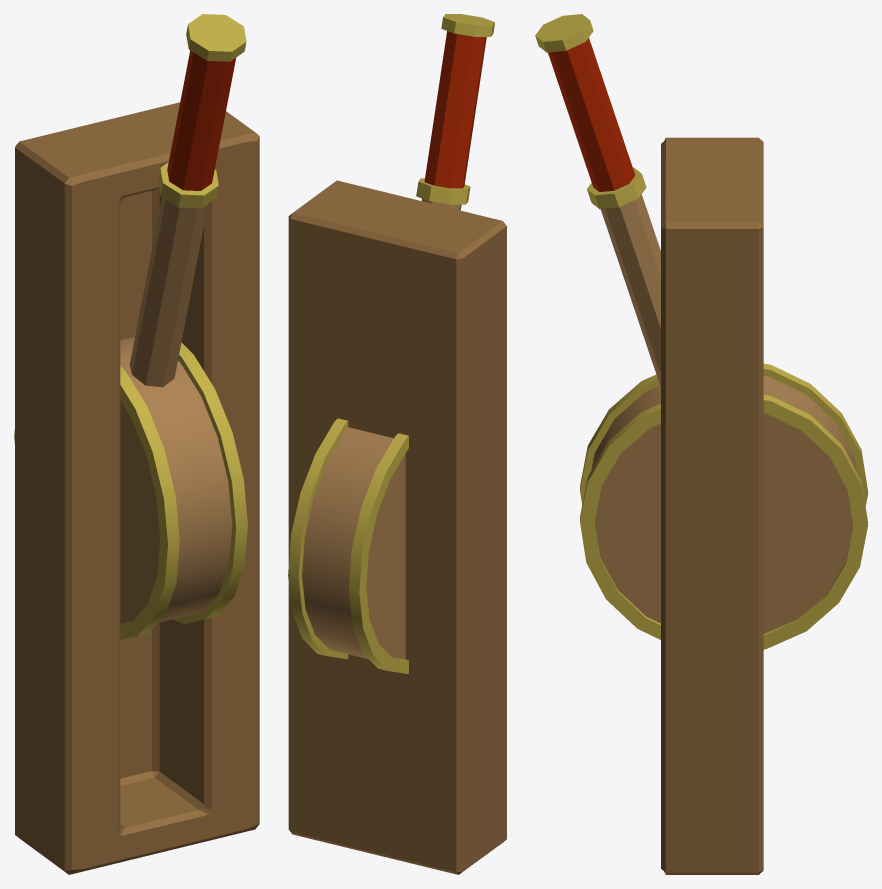
File: Lever.fbx
The picture shows the model from 3 angles, left to right: view 1: azimuth 30°, elevation 25°; view 2: azimuth 150°, elevation 25°; view 3: azimuth 270°, elevation 25°; orthographic projection. The views are drawn at different scales.
Visible parts, largest first — view 1: WallCasing, Lever; view 2: WallCasing, Lever; view 3: WallCasing, Lever.
Part boxes in pixels (<box>): WallCasing: <box>15,102,259,874</box>; Lever: <box>14,14,247,639</box>; WallCasing: <box>288,180,506,874</box>; Lever: <box>288,14,494,673</box>; WallCasing: <box>661,137,763,874</box>; Lever: <box>535,14,867,649</box>.
Bounding box in the file's own units: 1.46 × 6.22 × 2.31.
